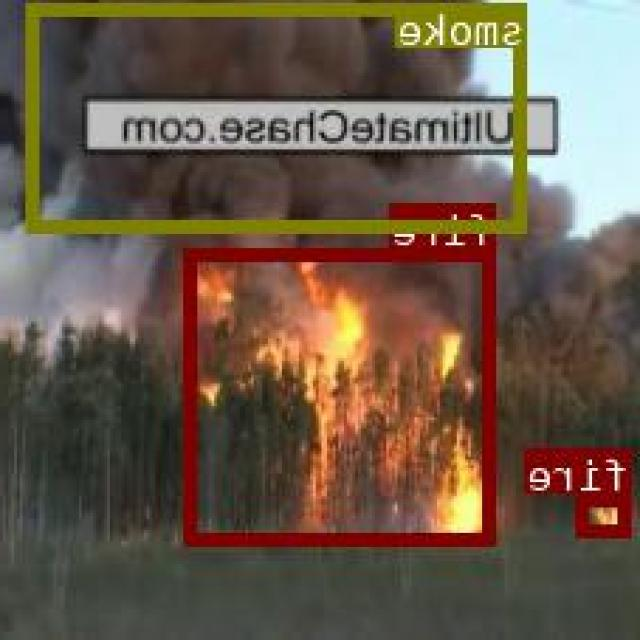fire: (187, 248, 499, 543), (579, 492, 633, 533)
smoke: (31, 2, 529, 230)
